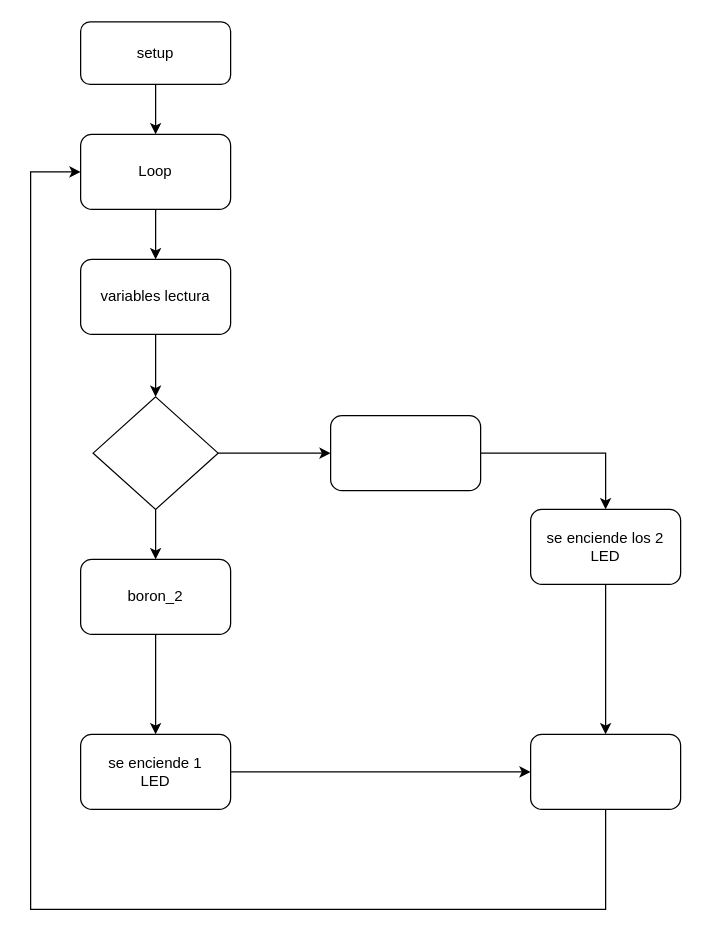
Some shapes in this 703 by 941 pixel diagram are drawn without their labels. Each missing label, with the box of its shape:
boton_1: (329, 414, 481, 491)
se apagan los LED: (529, 733, 681, 809)
se decide el Boton: (92, 396, 218, 509)
